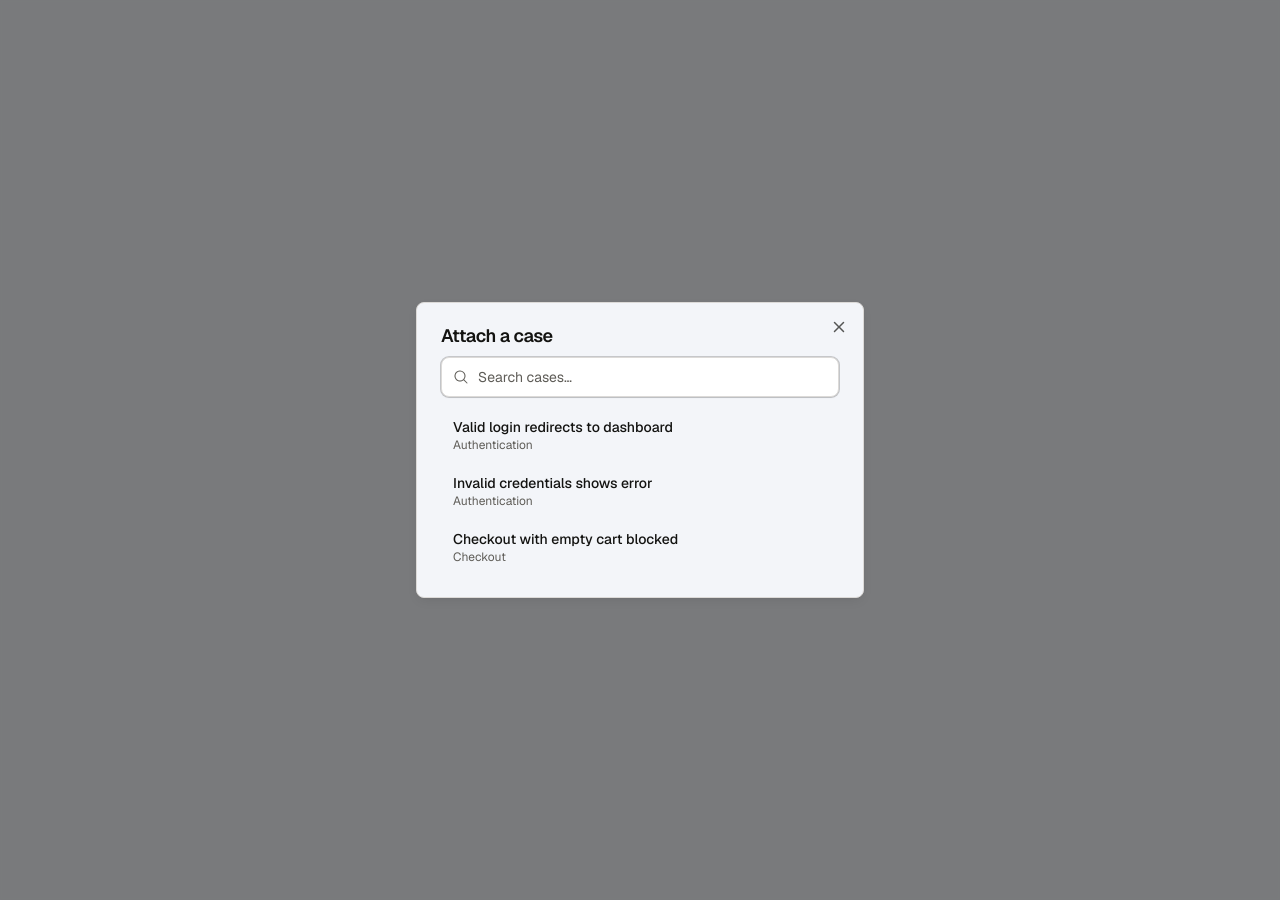
ChatCasePicker › shows an empty state when nothing matches the search
This screenshot has width=1280, height=900.
Type "nonexistent case" into the dropdown labelled "Search cases" at point(640, 377), box [441, 357, 839, 397]
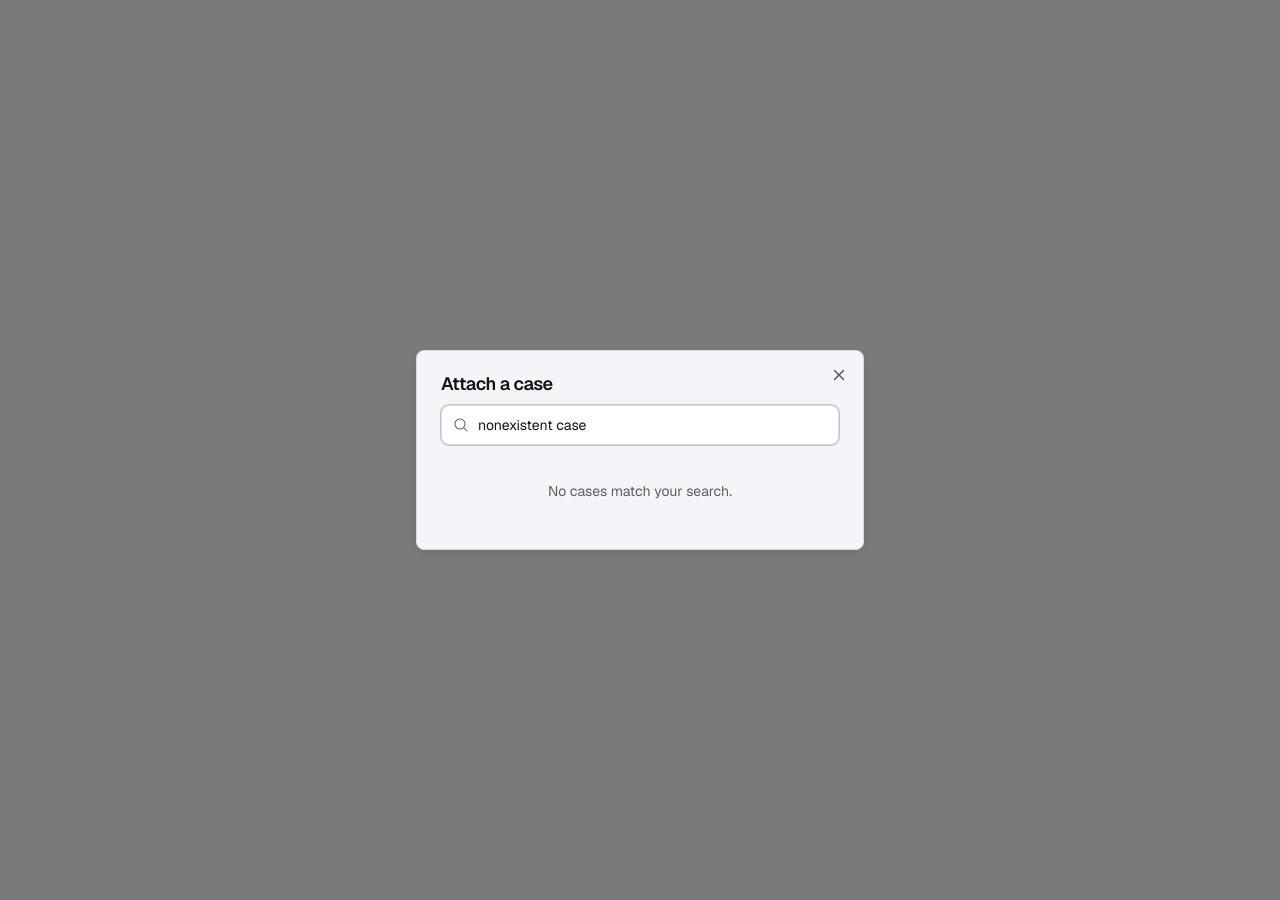
Expected: the list item "No cases match your search." is shown, [548, 482, 732, 500]
